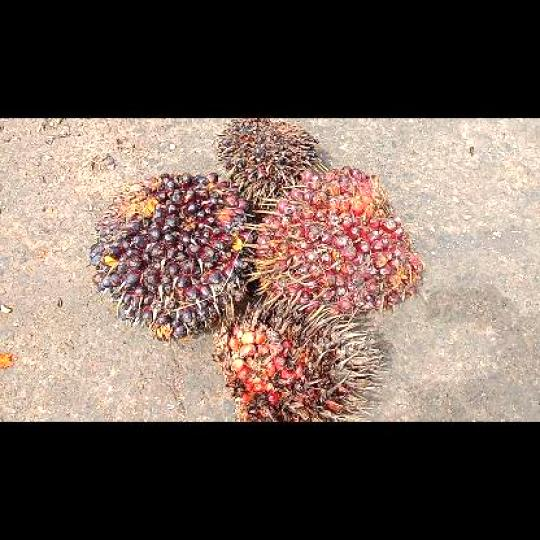kurang masak: (86, 170, 255, 341)
masak: (250, 164, 425, 314)
terlalu masak: (213, 297, 387, 420)
